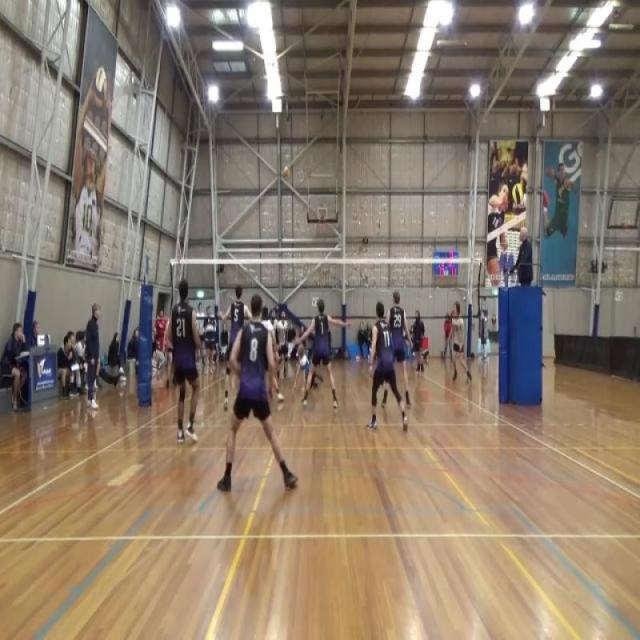volleyball: (92, 66, 109, 110), (512, 182, 524, 205), (282, 163, 292, 181)
